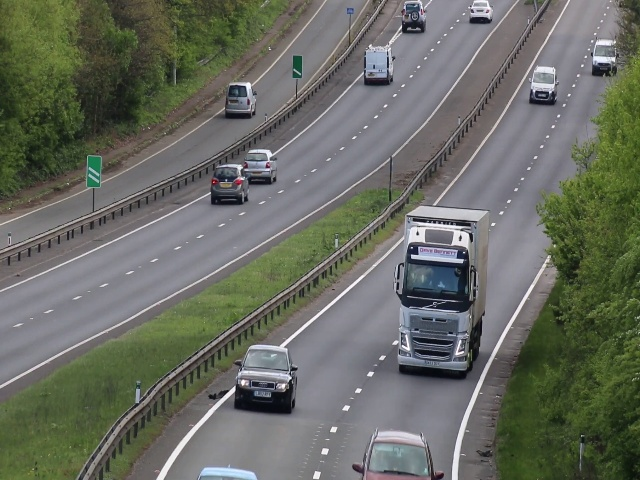car: (395, 240, 476, 375), (235, 346, 298, 417), (361, 431, 438, 480), (211, 163, 249, 207), (364, 44, 395, 88), (242, 147, 279, 183), (589, 39, 620, 77), (225, 83, 256, 119), (528, 66, 558, 101), (400, 2, 428, 35), (467, 1, 495, 25)
